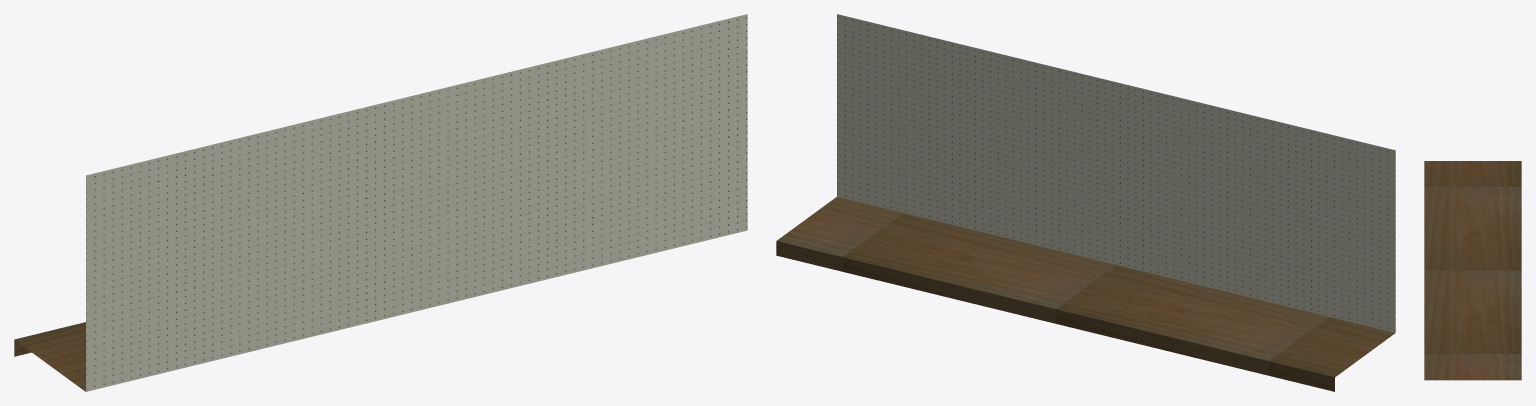
File: Bench.fbx
The picture shows the model from 3 angles, left to right: view 1: azimuth 30°, elevation 25°; view 2: azimuth 150°, elevation 25°; view 3: azimuth 270°, elevation 25°; orthographic projection. The views are drawn at different scales.
Visible parts, largest first — view 1: Bench; view 2: Bench; view 3: Bench.
Part boxes in pixels (x1,y1,x2,y2): Bench: (14, 14, 747, 391); Bench: (776, 14, 1395, 391); Bench: (1424, 161, 1521, 380).
Size of the model in its own units: 400 by 135 by 75.
